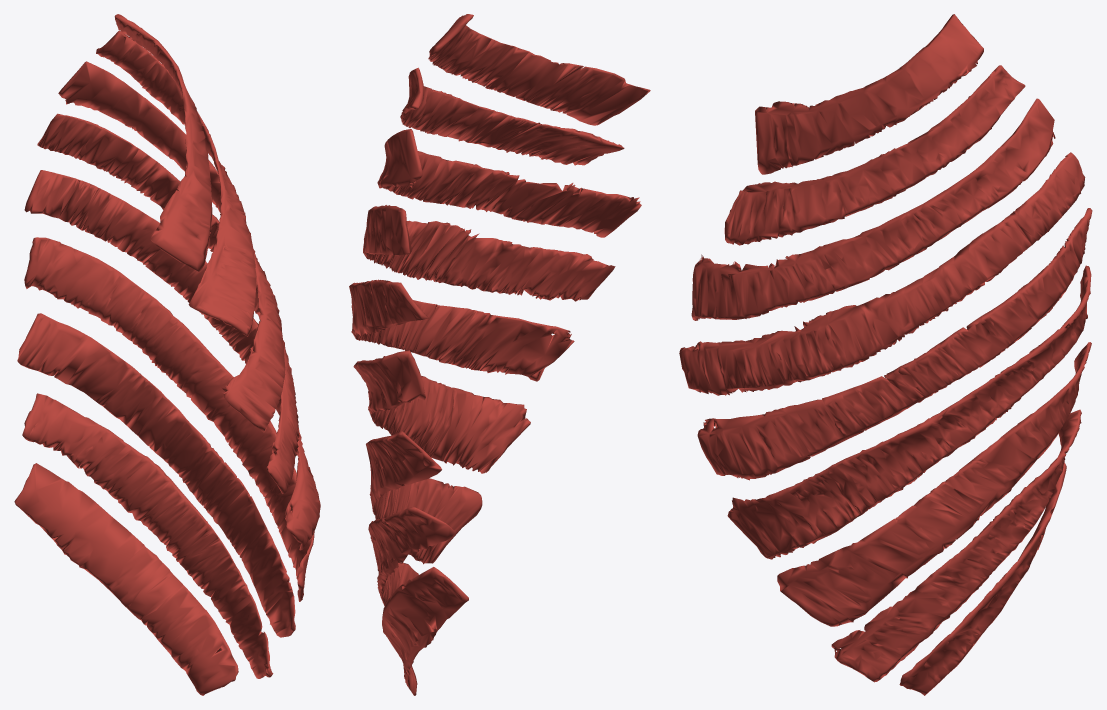
The model's file is musculos-innermost-intercostal-muscles-l.glb.
3 views of the same model, side by side, from view 1: azimuth 30°, elevation 25°; view 2: azimuth 150°, elevation 25°; view 3: azimuth 270°, elevation 25° (orthographic). The views are drawn at different scales.
Visible parts, largest first — view 1: Innermost intercostal muscles.l; view 2: Innermost intercostal muscles.l; view 3: Innermost intercostal muscles.l.
Part boxes in pixels (left/top/right/bottom): Innermost intercostal muscles.l: left=14, top=14, right=320, bottom=695; Innermost intercostal muscles.l: left=349, top=14, right=650, bottom=695; Innermost intercostal muscles.l: left=679, top=14, right=1092, bottom=695.
Size of the model in its own units: 0.0919 by 0.3248 by 0.1874.
